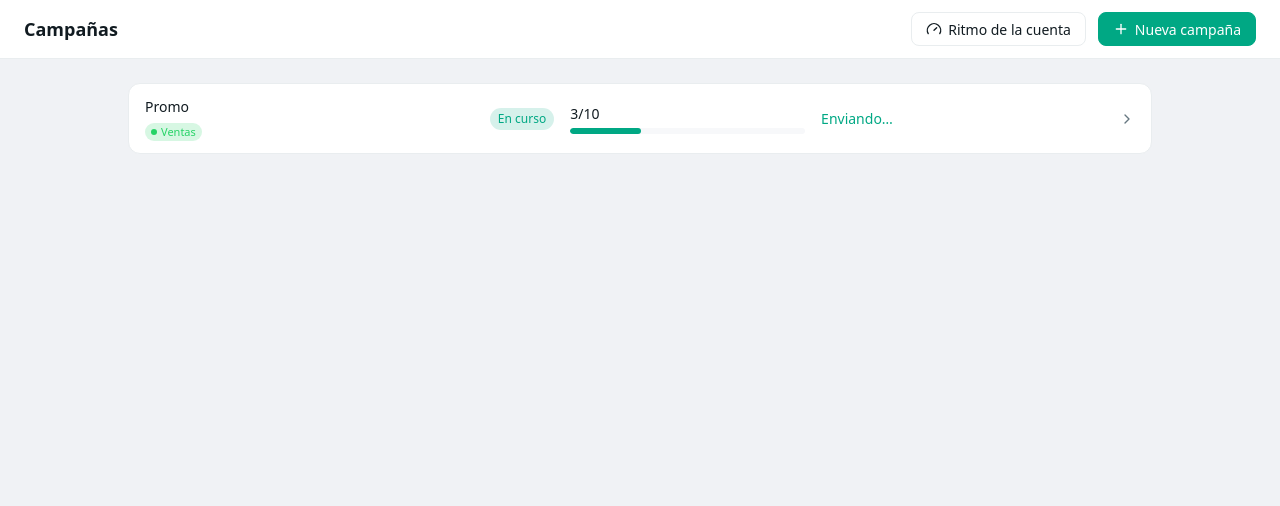
Test: detalle de campaña › totales, respuestas y bajas
What coordinates should you click on to do the following:
click the button with test id "campaign-row"
I would click on:
 (167, 106)
Its box is top-left (128, 83), bottom-right (1152, 154).
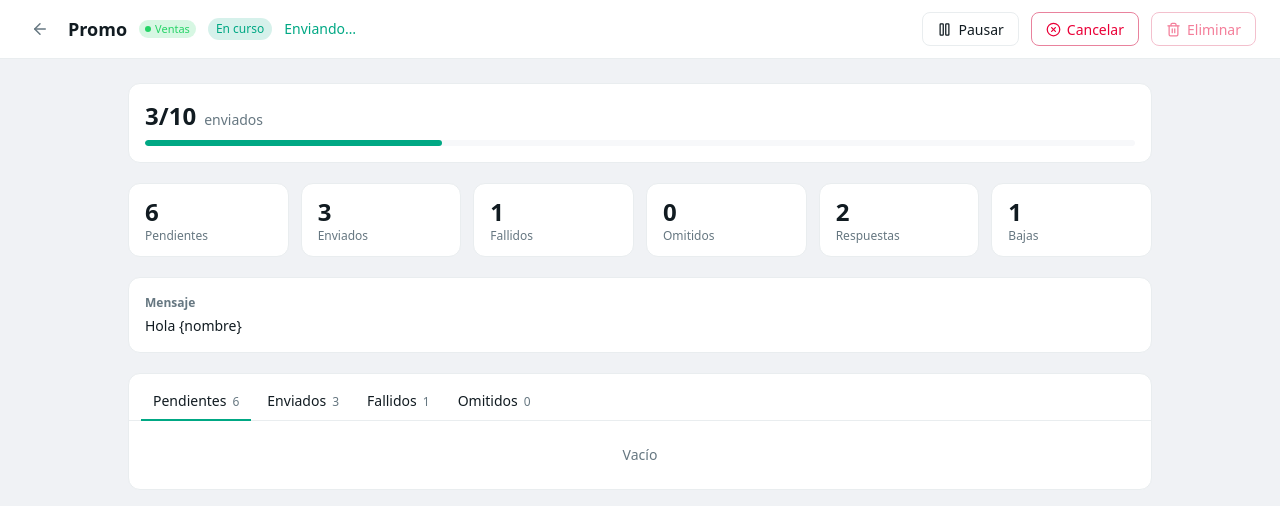
expect the element with test id "stat-queued" shows "6": met, box top-left (145, 195), bottom-right (159, 228)
expect the element with test id "stat-sent" shows "3": met, box top-left (318, 195), bottom-right (331, 228)
expect the element with test id "stat-failed" shows "1": met, box top-left (490, 195), bottom-right (504, 228)
